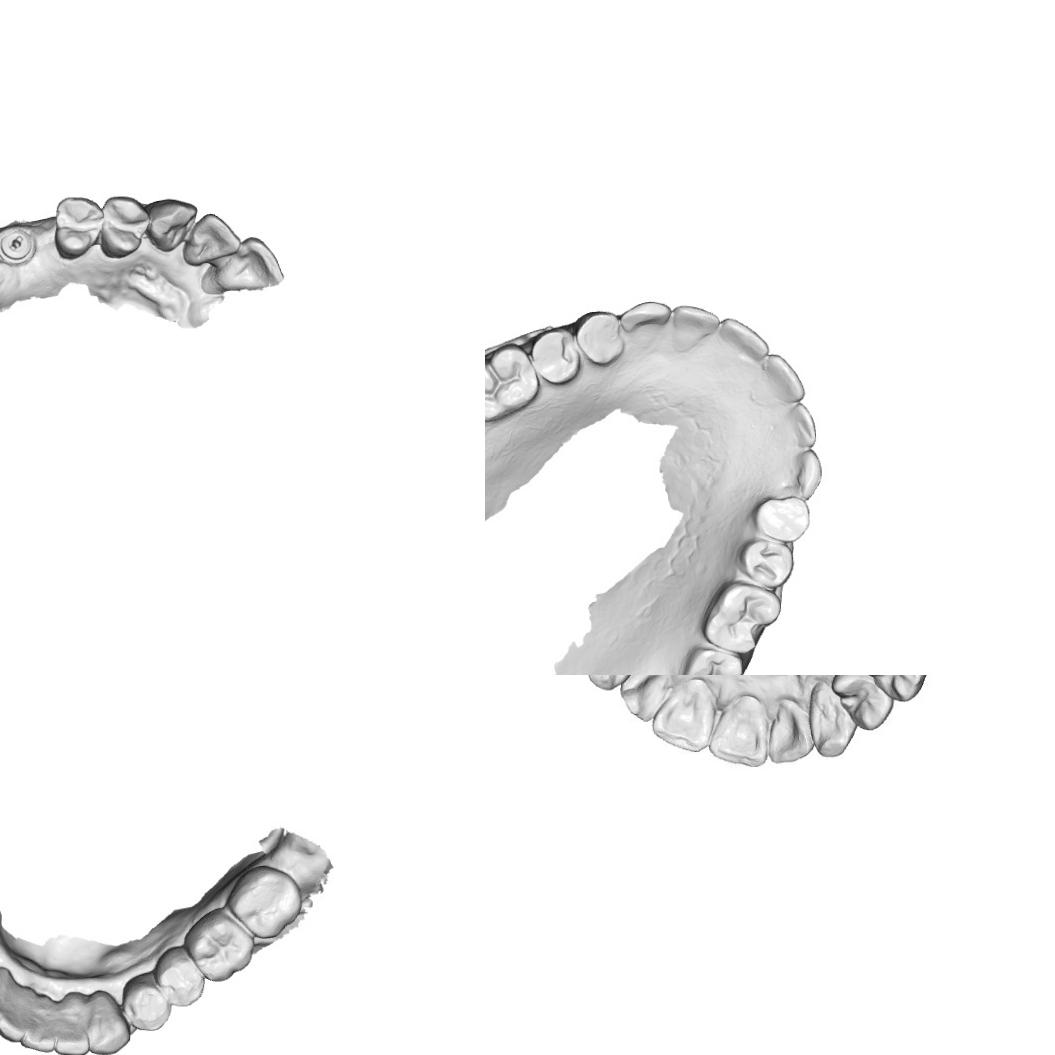canine: (810, 684, 856, 759), (145, 196, 198, 254), (83, 993, 131, 1055), (622, 301, 670, 343), (786, 448, 824, 497), (583, 675, 644, 696)
implant_minus: (0, 225, 38, 267)
incisor: (652, 687, 716, 755), (706, 700, 768, 770), (214, 234, 284, 294), (182, 211, 242, 266), (767, 702, 816, 764), (618, 675, 669, 722), (762, 354, 809, 404), (720, 316, 768, 362), (672, 301, 719, 340), (790, 404, 821, 452), (19, 1016, 57, 1055), (51, 1019, 92, 1055), (0, 1001, 28, 1046)
molar: (699, 580, 782, 654), (225, 864, 302, 940), (184, 910, 254, 983), (485, 341, 540, 421), (680, 647, 744, 675)
premolar: (95, 190, 149, 260), (50, 194, 105, 262), (152, 944, 207, 1010), (524, 325, 582, 384), (119, 974, 173, 1034), (752, 495, 814, 544), (835, 675, 891, 728), (738, 539, 795, 590), (574, 311, 625, 365), (862, 675, 926, 700)
